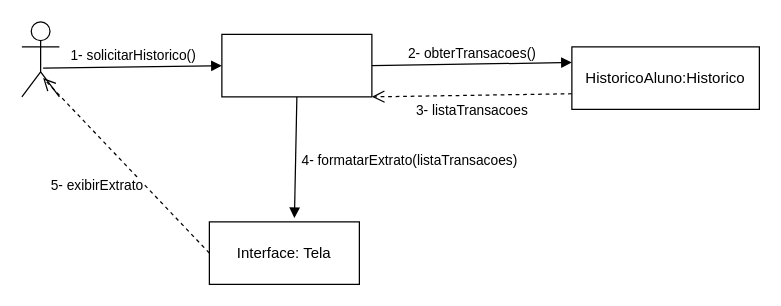
Some shapes in this 781 by 306 pixel diagram are drawn without their labels. Here are the shapes that lost their labels. From the top down, the box of each, then its label:
(21, 21, 59, 97): Aluno
(221, 33, 372, 97): Sistema:Controlador
